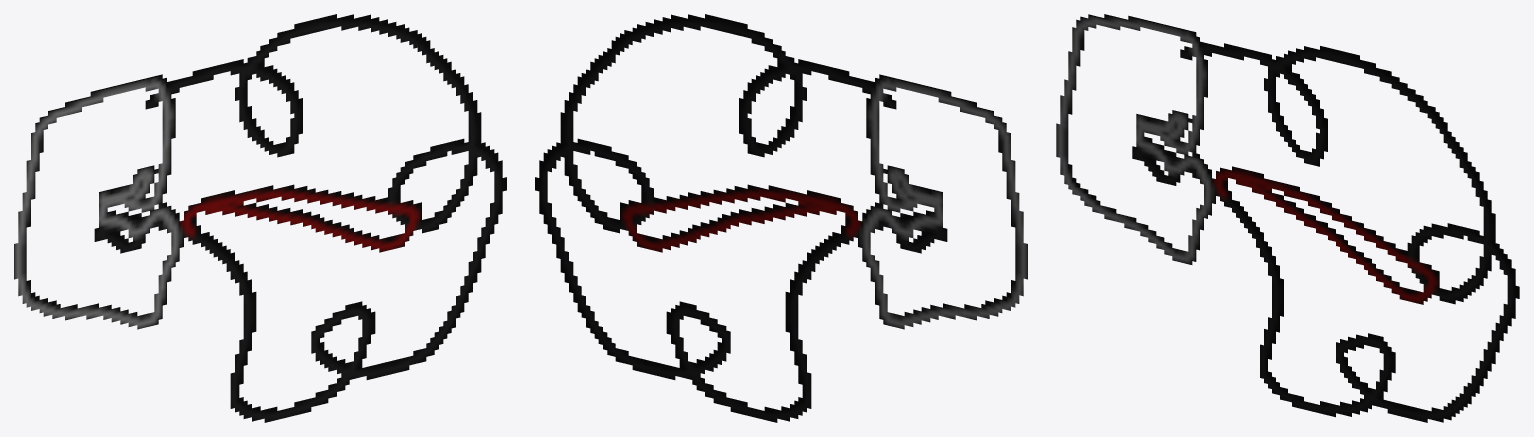
File: drawing_20260426_202855.obj
3 views of the same model, side by side, from view 1: azimuth 30°, elevation 25°; view 2: azimuth 150°, elevation 25°; view 3: azimuth 330°, elevation 25° (orthographic). The views are drawn at different scales.
Parts seen in each view (by area): view 1: DrawingExtruded; view 2: DrawingExtruded; view 3: DrawingExtruded.
Boxes of the visible parts, bbox=[...] form: DrawingExtruded: bbox=[14, 14, 506, 422]; DrawingExtruded: bbox=[535, 14, 1027, 422]; DrawingExtruded: bbox=[1056, 14, 1519, 422].
Size of the model in its own units: 116 by 88 by 0.
Materials: 1 (1 with a texture image).
